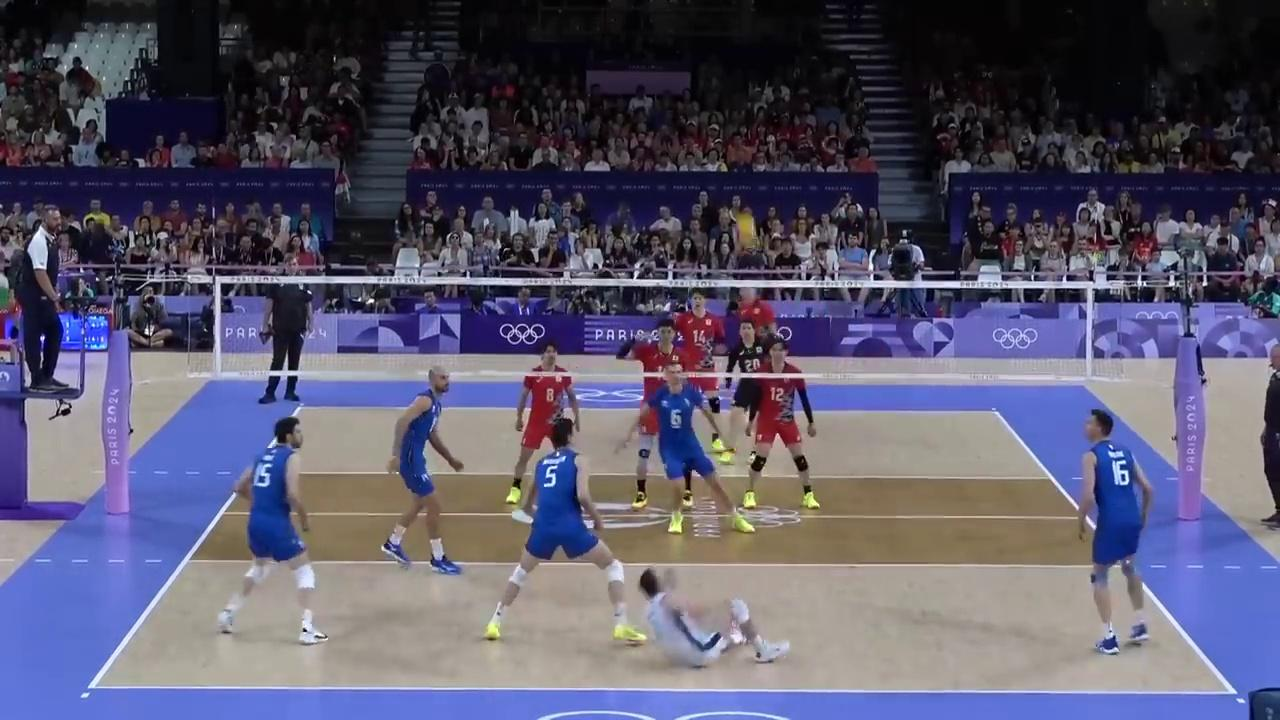ball: (737, 213, 755, 244)
